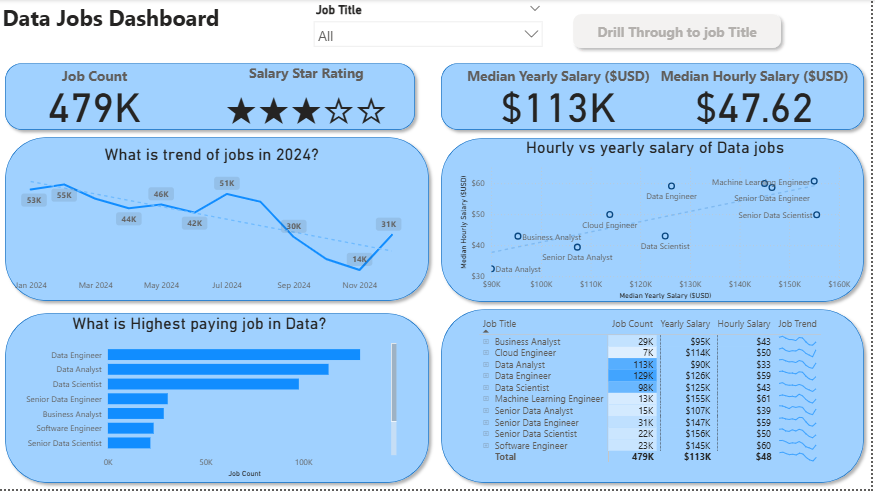

This screenshot's page, from the dashboard's own definition file:
{"tool":"powerbi","page":{"name":"Data Jobs Dashboard","canvas":[1280,720],"ordinal":0},"visuals":[{"type":"group","id":"g1","title":"Background","box":[0,84.8,1279.8,635.1],"z":0},{"type":"shape","box":[0,84.8,620.1,116.1],"z":0,"group":"g1"},{"type":"textbox","box":[0,0,452.6,61.7],"z":1000},{"type":"shape","box":[640.7,85.1,639.2,116.1],"z":1000,"group":"g1"},{"type":"slicer","fields":{"Values":["job_postings_flat.job_title_short"]},"box":[452.6,0,355.6,80.8],"z":2000},{"type":"shape","box":[0,193.8,640.7,258.6],"z":2000,"group":"g1"},{"type":"cardVisual","fields":{"Data":["Median(job_postings_flat.salary_year_avg)"]},"box":[653.9,97,336.5,97],"z":3000},{"type":"shape","box":[0,452.4,640.7,267.4],"z":3000,"group":"g1"},{"type":"cardVisual","fields":{"Data":["Median(job_postings_flat.salary_hour_avg)"]},"box":[940.4,97,339.4,97],"z":4000},{"type":"shape","box":[640.7,195.3,639.2,258.6],"z":4000,"group":"g1"},{"type":"cardVisual","fields":{"Data":["job_postings_flat.Salary Star Rating"]},"box":[295.3,97,313,97],"z":5000},{"type":"shape","box":[640.7,446.5,639.2,273.3],"z":5000,"group":"g1"},{"type":"cardVisual","fields":{"Data":["CountNonNull(job_postings_flat.job_title_short)"]},"box":[17.6,97,245.4,97],"z":6000},{"type":"lineChart","title":"What is trend of jobs in 2024?","fields":{"Category":["job_postings_flat.job_posted_date.Variation.Date Hierarchy.Year","job_postings_flat.job_posted_date.Variation.Date Hierarchy.Quarter","job_postings_flat.job_posted_date.Variation.Date Hierarchy.Month","job_postings_flat.job_posted_date.Variation.Date Hierarchy.Day"],"Y":["CountNonNull(job_postings_flat.job_title_short)"]},"box":[17.6,214.5,590.7,224.8],"z":7000},{"type":"barChart","title":"What is Highest paying job in Data?","fields":{"Category":["job_postings_flat.job_title_short"],"Y":["CountNonNull(job_postings_flat.job_title_short)"]},"box":[0,462.9,589.2,245.4],"z":8000},{"type":"scatterChart","title":"Hourly vs yearly salary of Data jobs","fields":{"X":["Median(job_postings_flat.salary_year_avg)"],"Series":["job_postings_flat.job_title_short"],"Y":["Median(job_postings_flat.salary_hour_avg)"]},"box":[671.5,204.2,584.8,242.4],"z":9000},{"type":"pivotTable","fields":{"Rows":["job_postings_flat.job_title_short","job_postings_flat.job_posted_date.Variation.Date Hierarchy.Quarter"],"Values":["CountNonNull(job_postings_flat.job_title_short)","Median(job_postings_flat.salary_year_avg)","Median(job_postings_flat.salary_hour_avg)","SparklineData(CountNonNull(job_postings_flat.job_title_short)_[job_postings_flat.job_posted_date.Variation.Date Hierarch"]},"box":[700.9,462.9,578.9,257.1],"z":10000},{"type":"actionButton","box":[834.6,13.2,323.3,67.6],"z":11000}]}

Visuals, with their boxes in screenshot pixels (x1, y1, x2, y2), scaled from the page's 1280x720 canvas onto the 875x492 screenshot:
"Background" group: region(0, 58, 874, 491)
shape: region(0, 58, 424, 137)
textbox: region(0, 0, 309, 42)
shape: region(438, 58, 874, 137)
slicer - job_postings_flat.job_title_short: region(309, 0, 552, 55)
shape: region(0, 132, 438, 309)
cardVisual - Median(job_postings_flat.salary_year_avg): region(447, 66, 677, 133)
shape: region(0, 309, 438, 491)
cardVisual - Median(job_postings_flat.salary_hour_avg): region(643, 66, 874, 133)
shape: region(438, 133, 874, 310)
cardVisual - job_postings_flat.Salary Star Rating: region(202, 66, 416, 133)
shape: region(438, 305, 874, 491)
cardVisual - CountNonNull(job_postings_flat.job_title_short): region(12, 66, 180, 133)
"What is trend of jobs in 2024?" lineChart: region(12, 147, 416, 300)
"What is Highest paying job in Data?" barChart: region(0, 316, 403, 484)
"Hourly vs yearly salary of Data jobs" scatterChart: region(459, 140, 859, 305)
pivotTable - job_postings_flat.job_title_short x job_postings_flat.job_posted_date.Variation.Date Hierarchy.Quarter: region(479, 316, 874, 491)
actionButton: region(571, 9, 792, 55)
